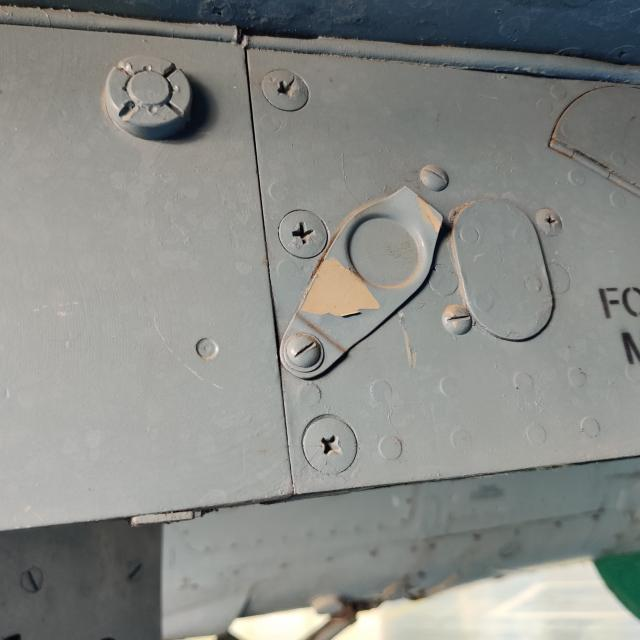Paint-off: (297, 256, 378, 319)
